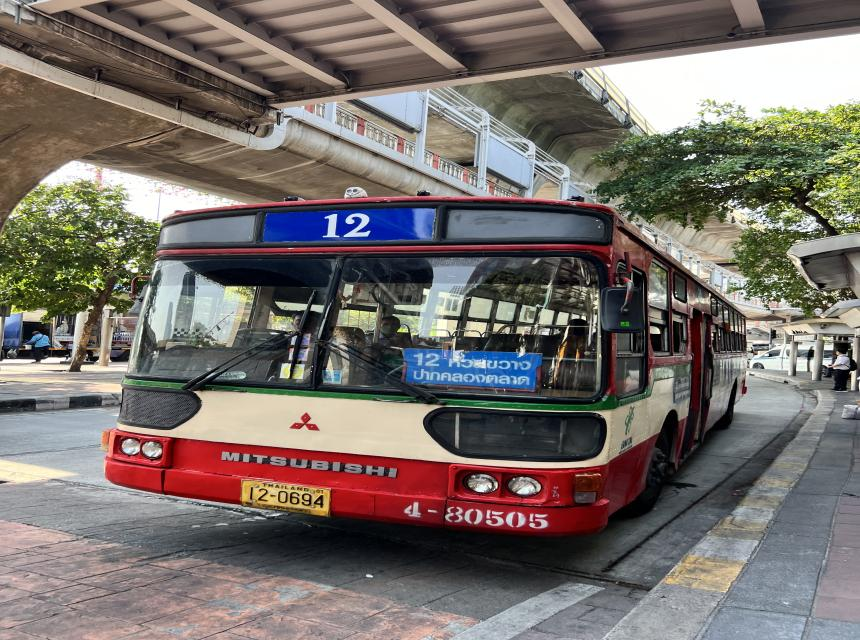BMTA-bus: (101, 197, 751, 540)
Bus Line Number: (259, 208, 437, 246)
Bus Side Number: (396, 498, 553, 532)
Destination Sign: (400, 346, 551, 393)
